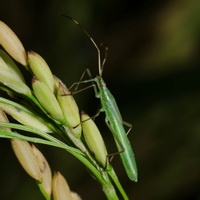insect: (62, 15, 137, 181)
